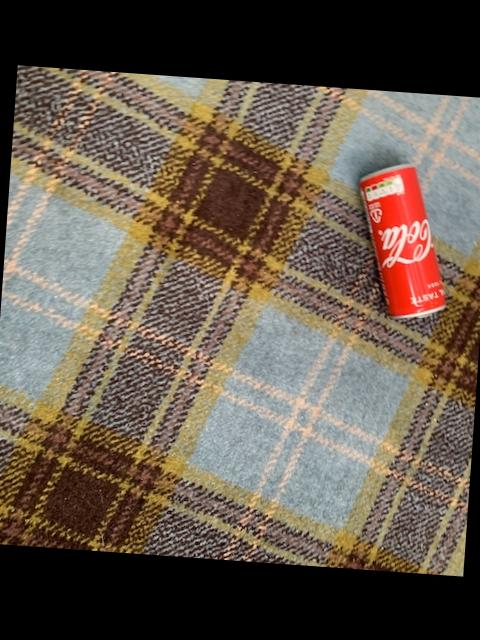metal: (358, 165, 442, 317)
